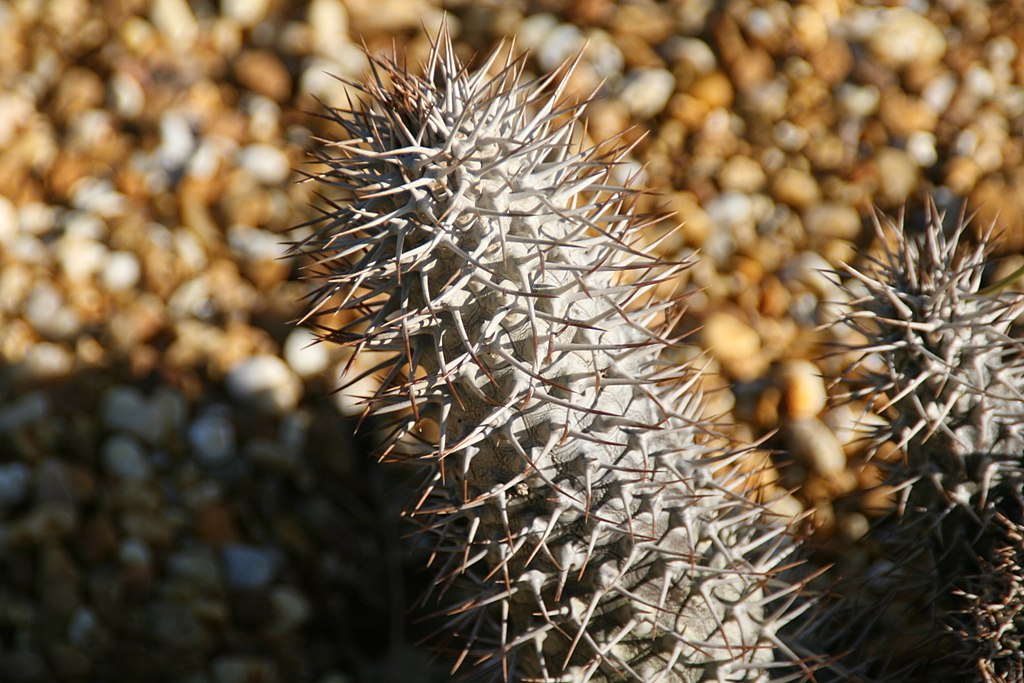Pachypodium lamerei Drake: (301, 52, 806, 675), (834, 209, 1010, 563)
